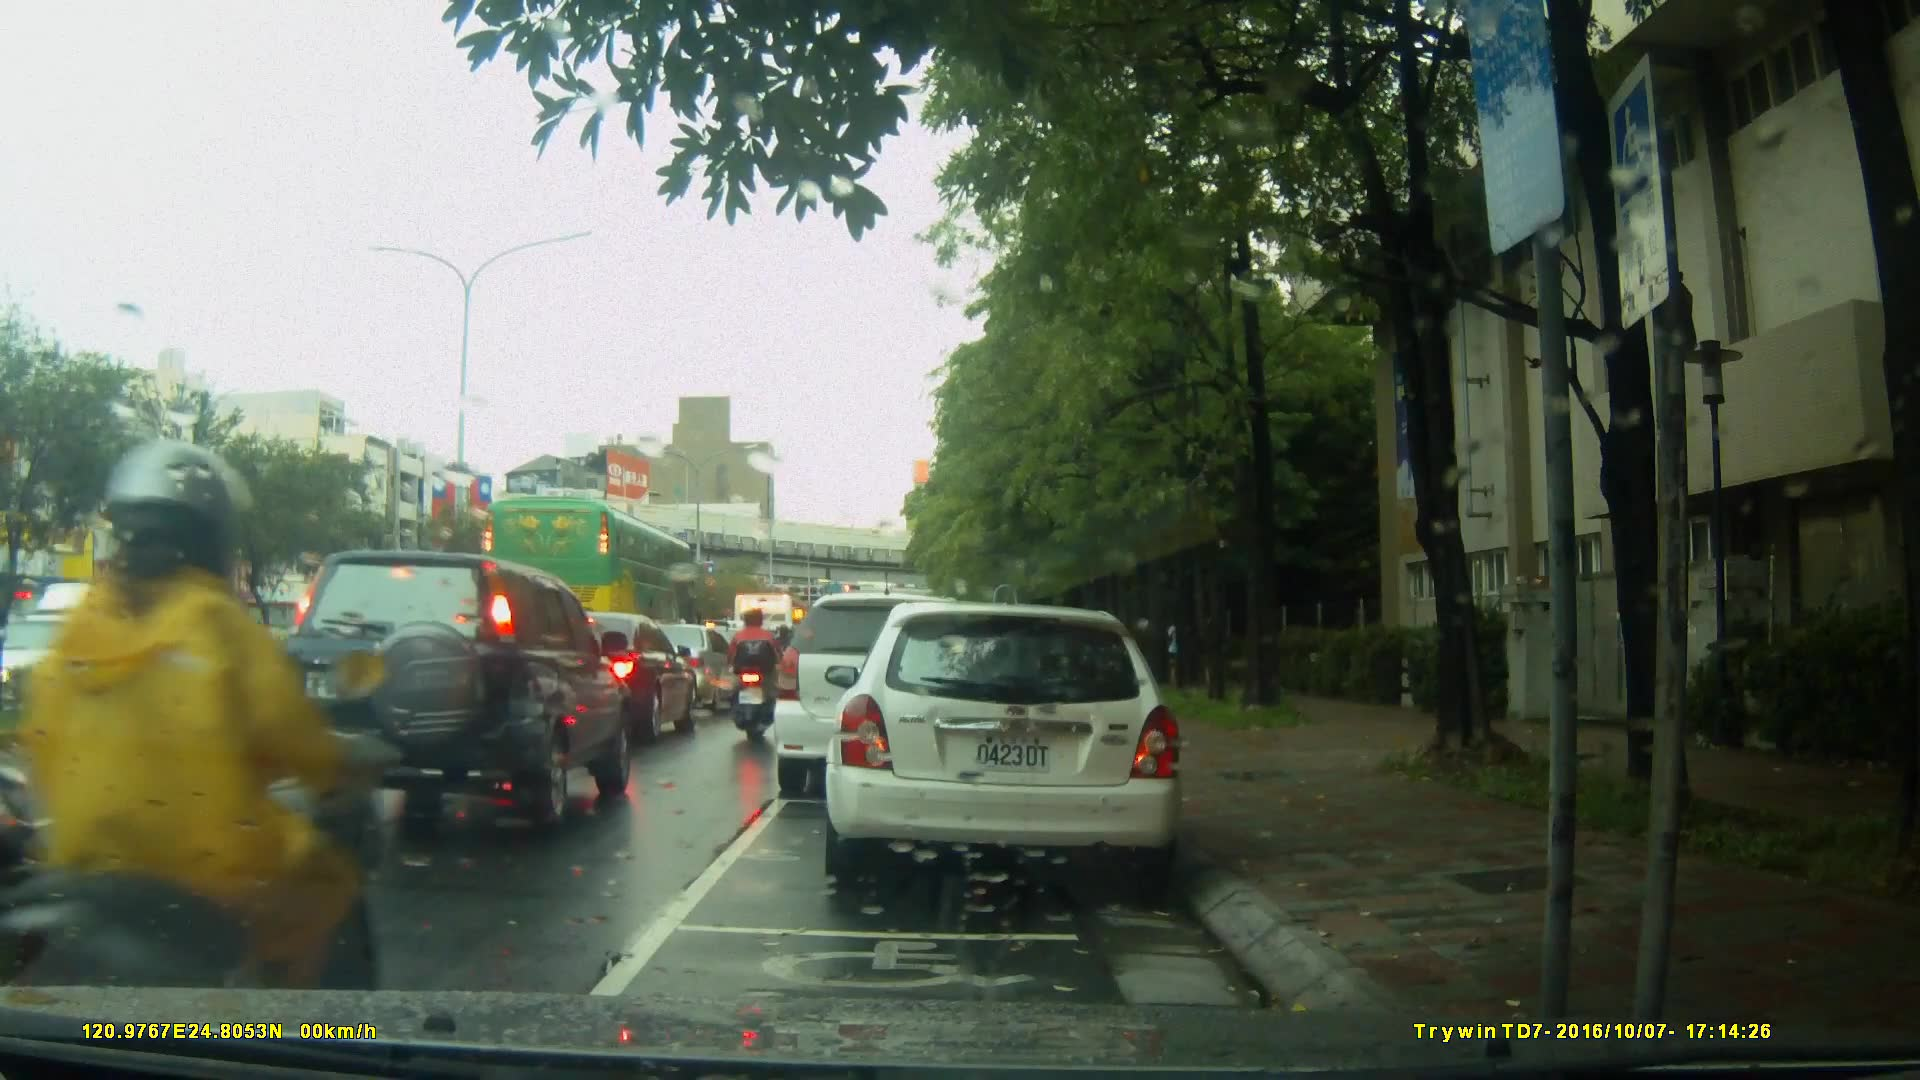rider: (14, 437, 379, 1071), (727, 612, 783, 739)
vehicle: (831, 592, 1196, 897), (278, 548, 620, 826), (770, 592, 999, 801), (477, 493, 715, 659), (505, 610, 702, 749), (1, 613, 183, 709), (22, 576, 164, 684), (633, 622, 748, 717)
